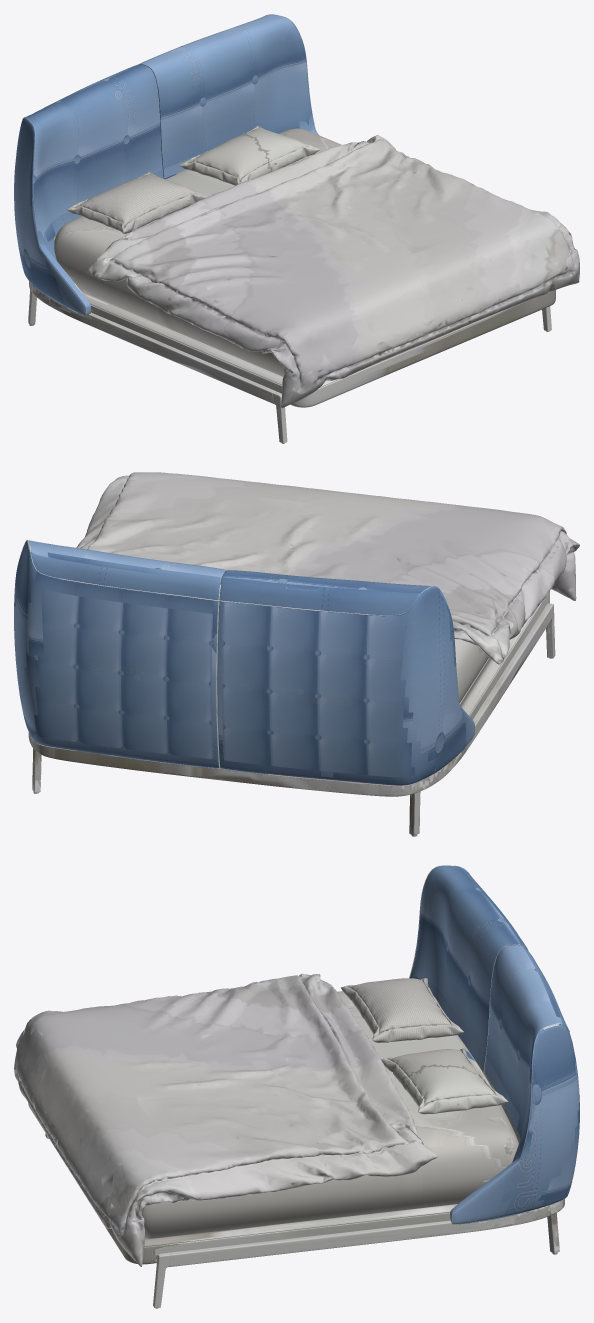
Rendered from bed3final(a).glb.
The picture shows the model from 3 angles, top to bottom: view 1: azimuth 30°, elevation 25°; view 2: azimuth 150°, elevation 25°; view 3: azimuth 270°, elevation 25°; orthographic projection. The views are drawn at different scales.
Parts seen in each view (by area): view 1: 11; view 2: 11; view 3: 11.
Part boxes in pixels (x1,y1,x2,y2): 11: (14,14,579,443); 11: (14,472,579,836); 11: (14,865,579,1308).
Bounding box in the file's own units: 8.73 × 4.14 × 9.12.
Materials: 3 (2 with a texture image).
